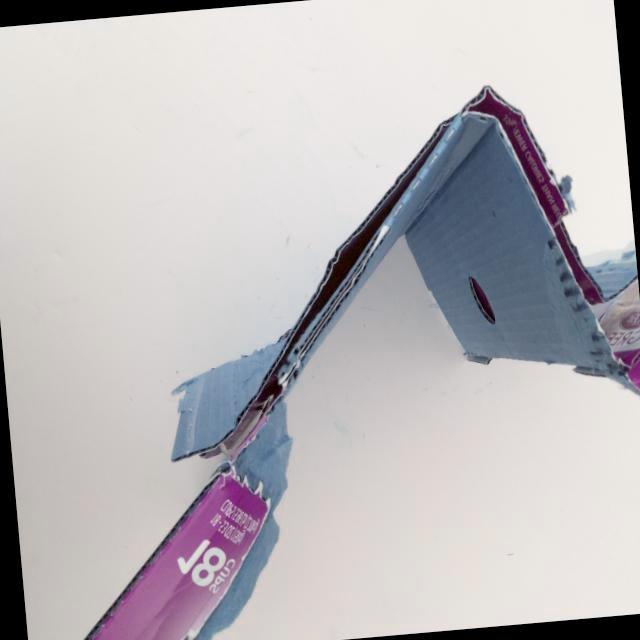cardboard: (7, 58, 640, 640)
